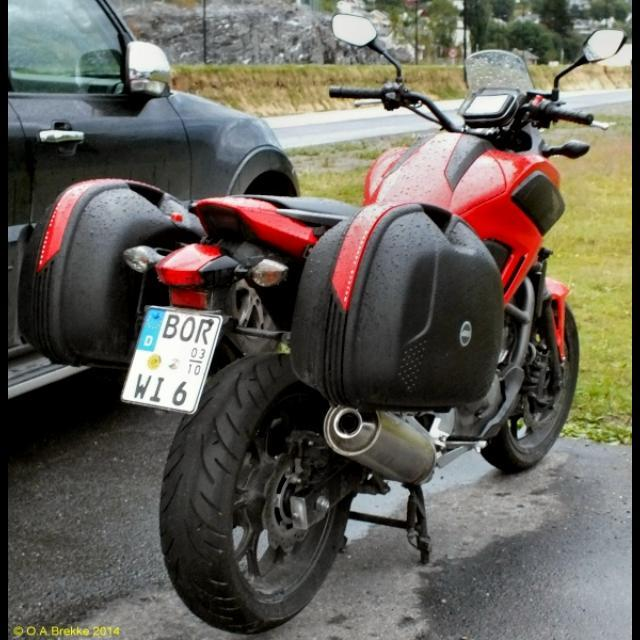license-plates: (121, 307, 223, 414)
